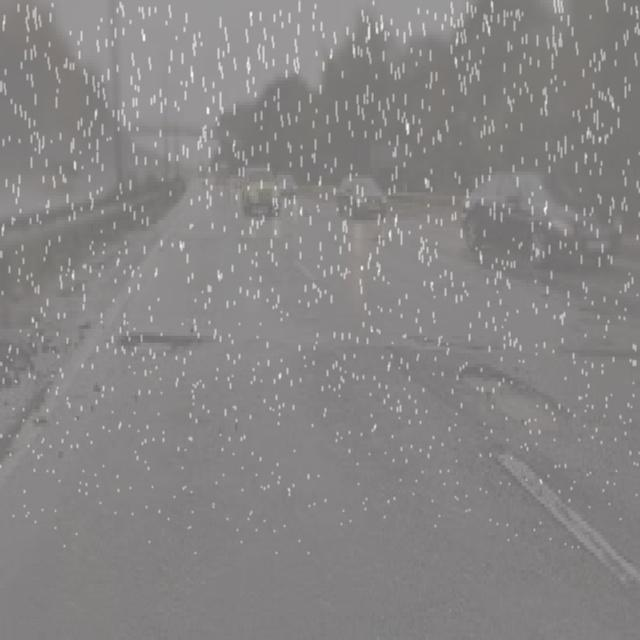Pothole: (443, 361, 577, 448), (97, 319, 224, 376), (0, 331, 74, 399), (421, 316, 507, 362), (553, 335, 640, 366)
